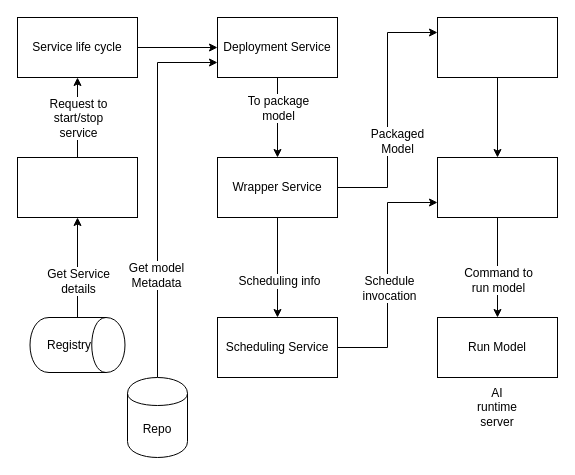
Image size: 575x475. Some labels were removed from this diagram. The shapes that lost their labels are listed below. From the top down, each one's box as (x1, y1, x2, y2) in pixels, then its label:
(436, 16, 558, 78): Setup Environment
(16, 156, 138, 218): Topology Manager
(436, 156, 558, 218): Invocation Sevice
